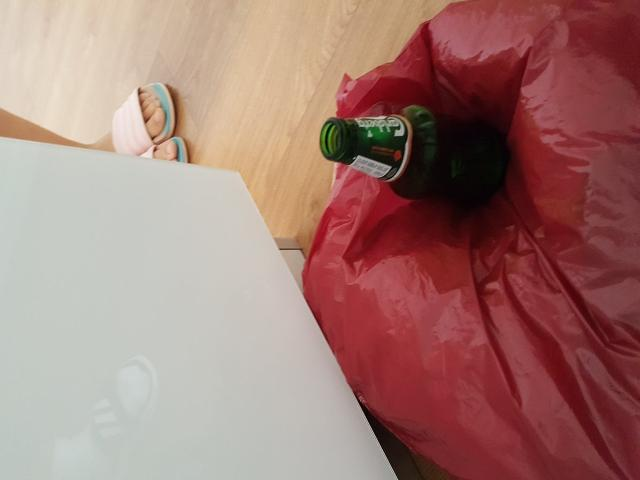beer: (320, 106, 509, 207)
